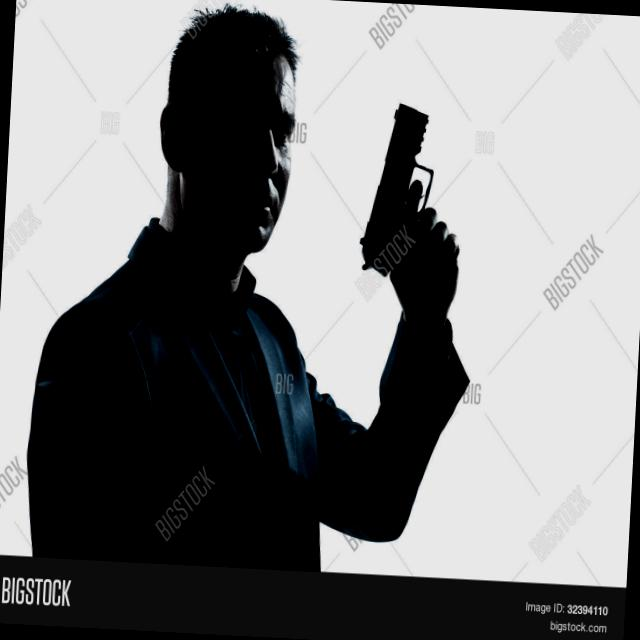handgun: (351, 96, 452, 284)
